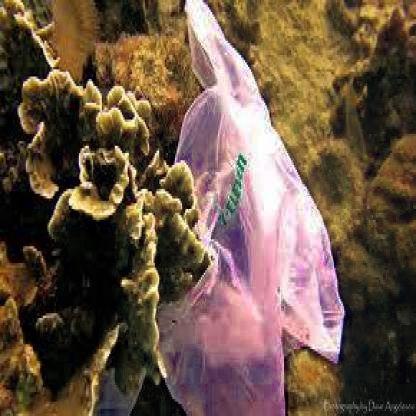pbag: (136, 2, 353, 414)
